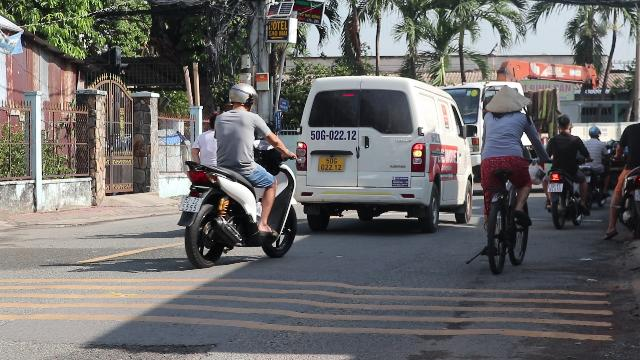helmet: (227, 83, 257, 111)
licenseplate: (179, 196, 201, 212)
motorcyclist: (176, 80, 300, 268)
